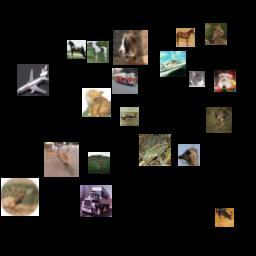airplane: (17, 64, 49, 96), (120, 107, 139, 126)
bird: (206, 107, 232, 133), (178, 144, 200, 166), (205, 23, 227, 45)
cat: (82, 88, 111, 117), (189, 71, 205, 87)
deer: (1, 178, 39, 216), (44, 142, 79, 177), (88, 152, 110, 174)
dog: (113, 30, 148, 65), (214, 70, 236, 92), (215, 208, 234, 227)
frog: (139, 134, 171, 166)
ship: (160, 51, 186, 77)
truck: (80, 185, 112, 217), (112, 68, 138, 94)
